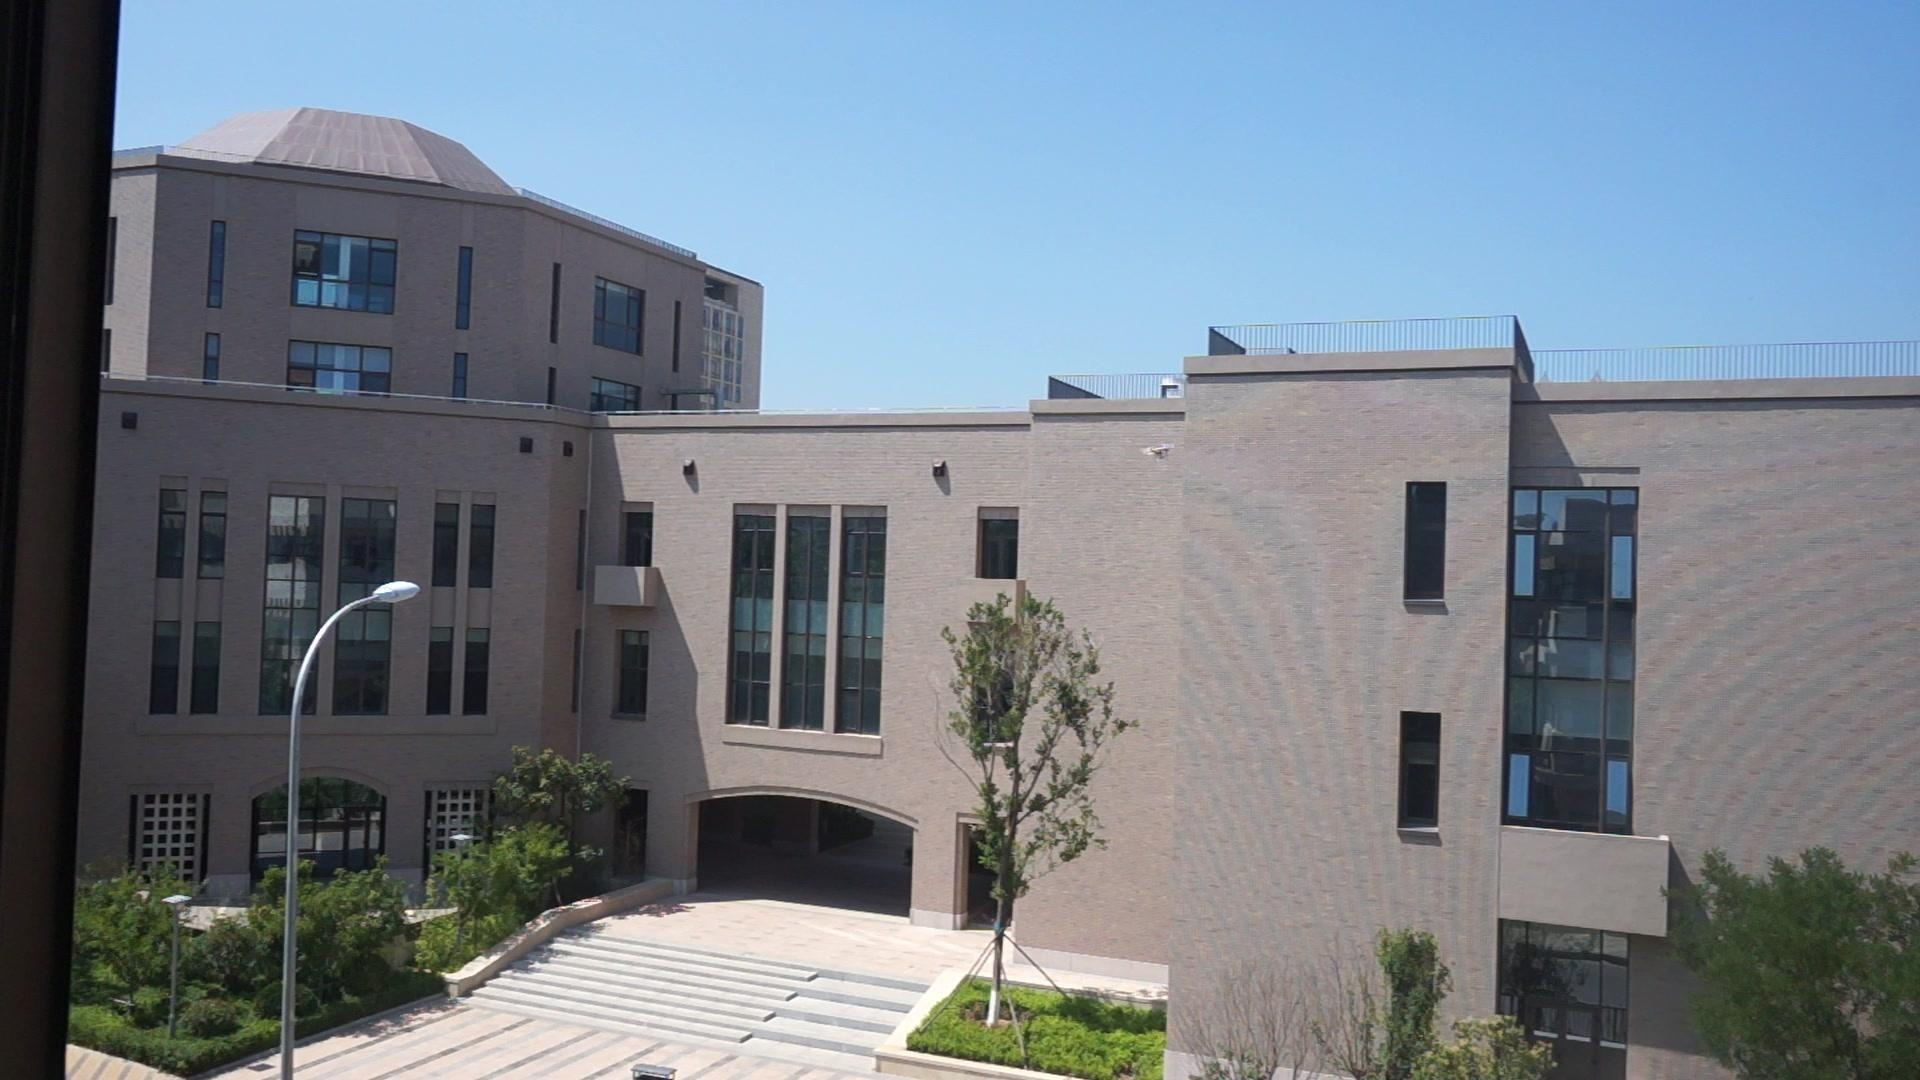UAV: (1139, 443, 1176, 460)
